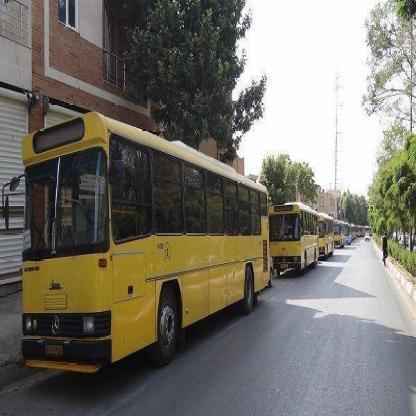Bus: (14, 113, 277, 381), (269, 200, 321, 280), (319, 211, 336, 253)
